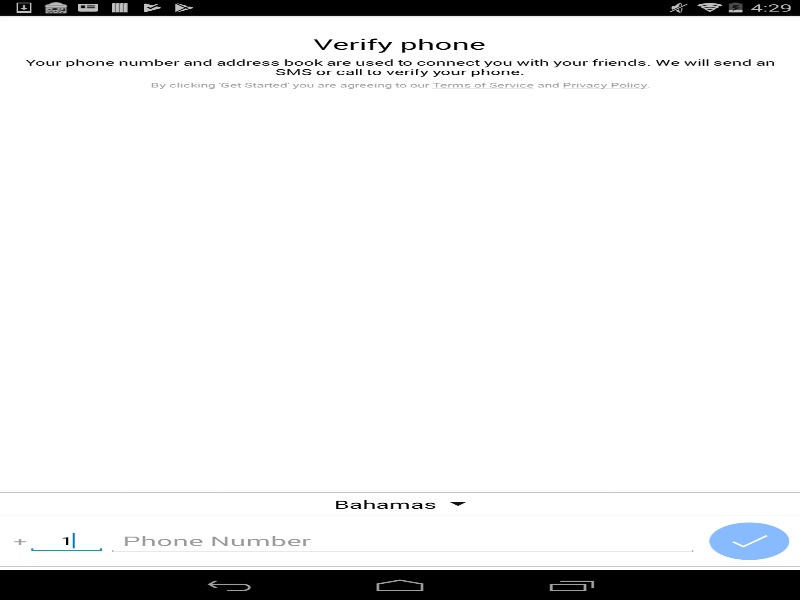Button: (709, 522, 789, 560)
Input: (106, 527, 698, 554), (26, 528, 106, 553)
